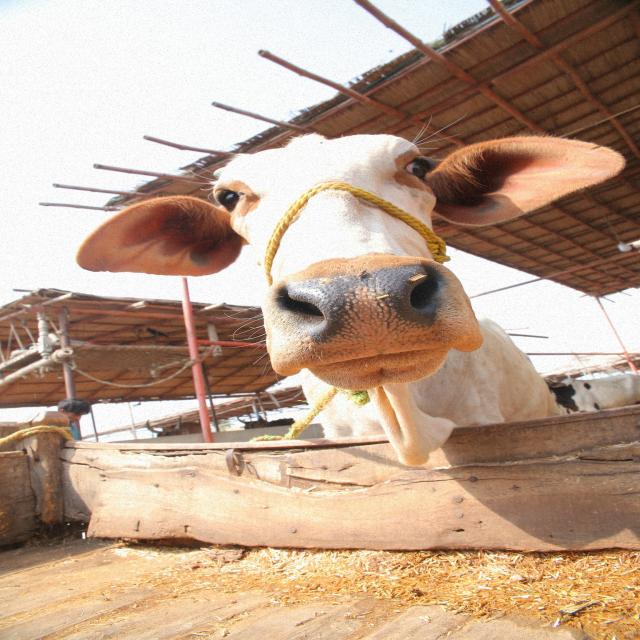muzzles: (275, 267, 469, 358)
